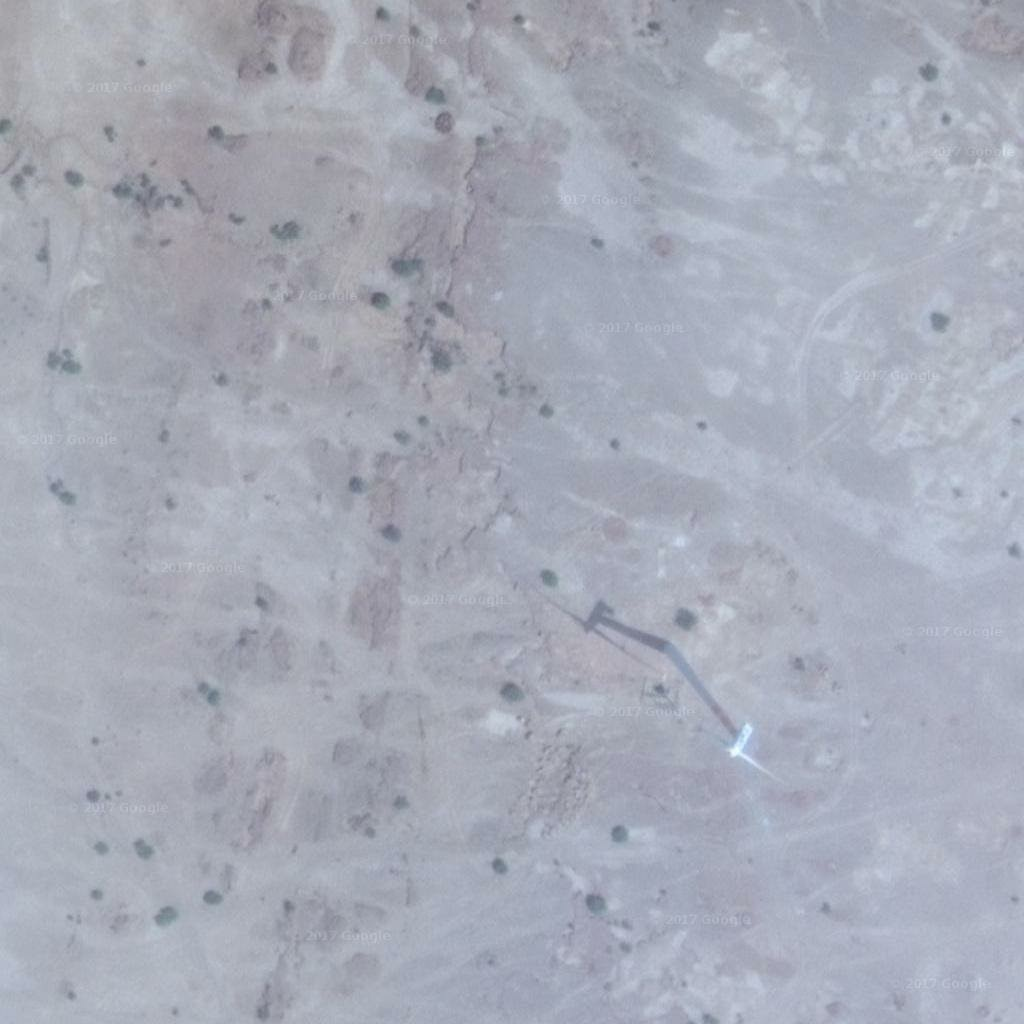Windmill: (520, 575, 700, 666)
